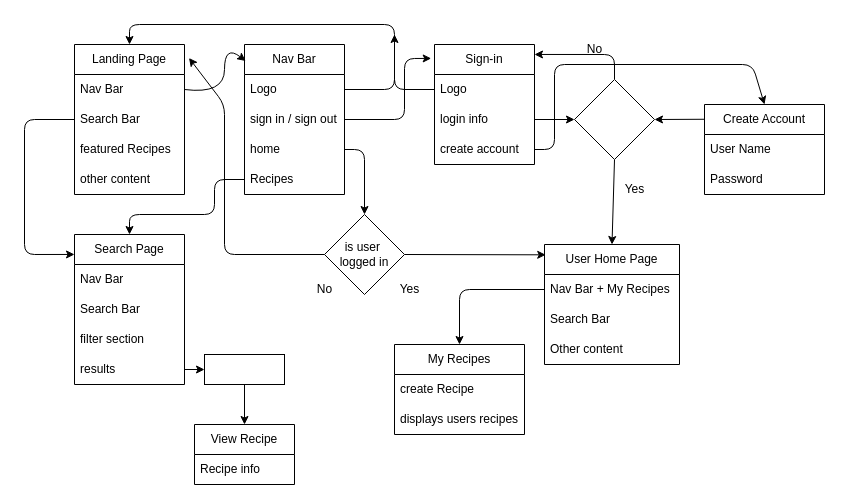
Some shapes in this 842 by 502 pixel diagram are drawn without their labels. Here are the shapes that lost their labels. From the top down, the centre of each, then its label:
At pixel 614 119: "Successfull login".
At pixel 244 369: "If clicked on".
